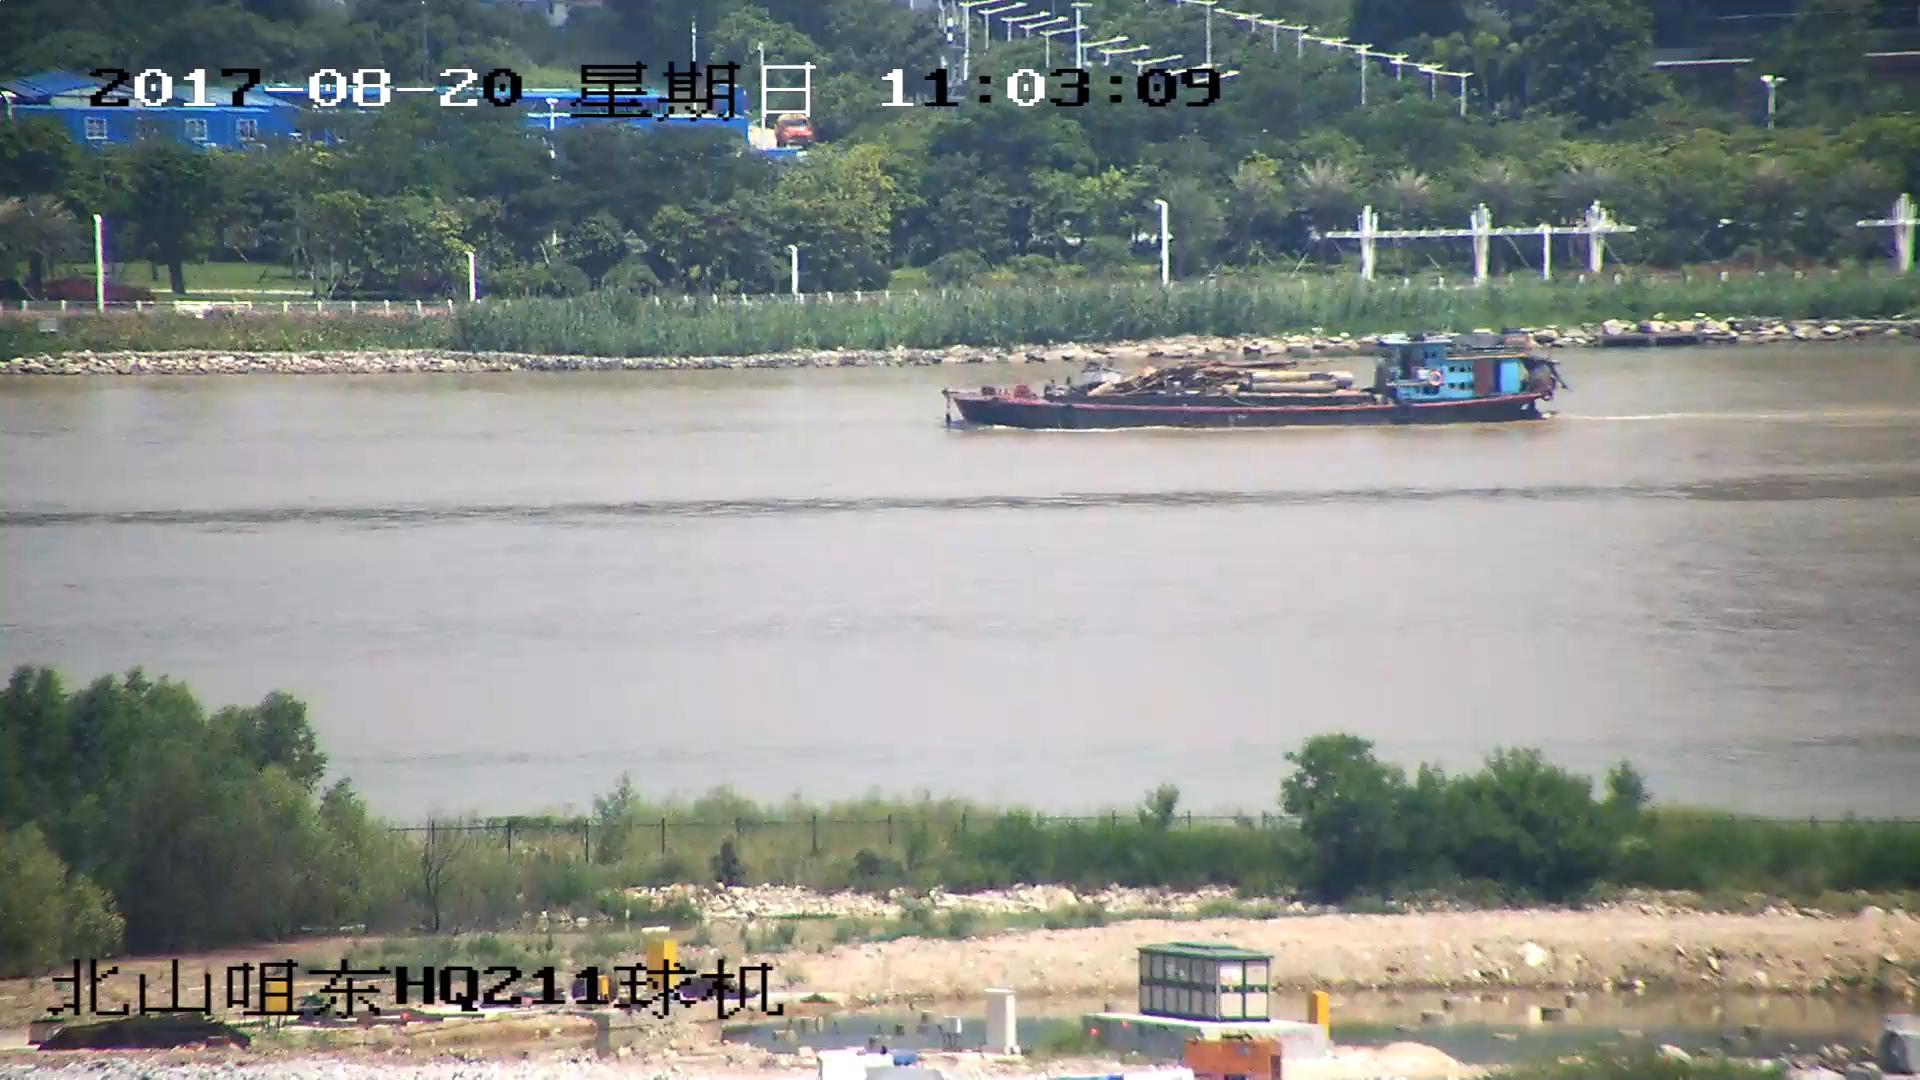Ship: (949, 339, 1571, 433)
